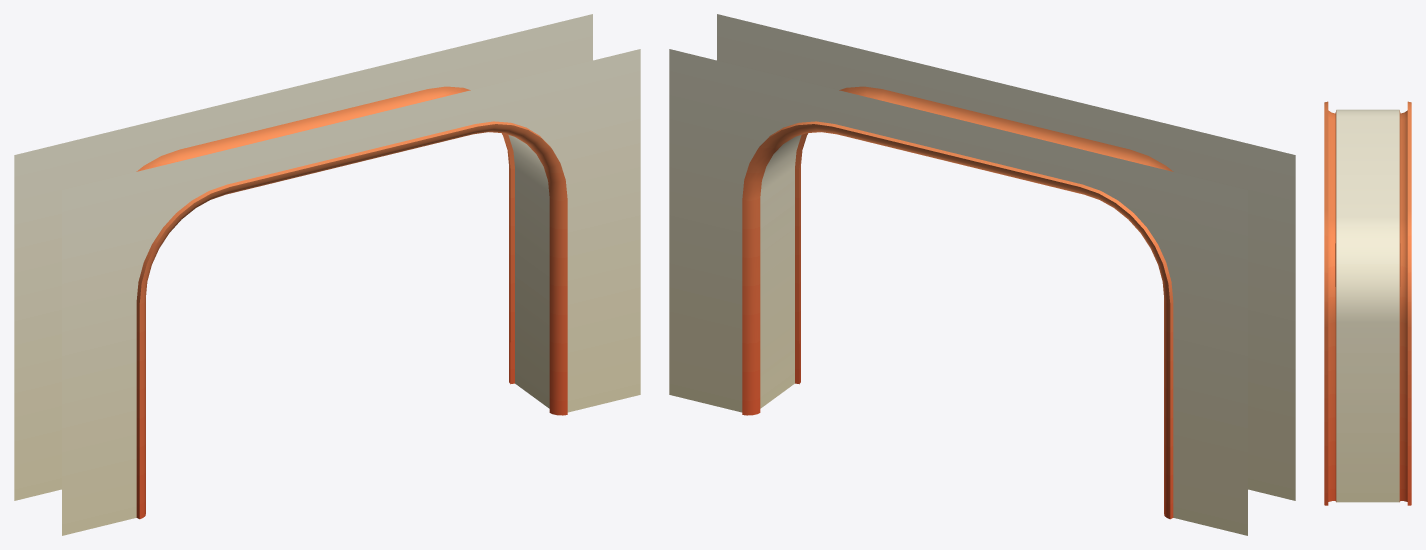
Rendered from sm_futuristic_doorway_5x3.fbx.
3 renders of one model, left to right at view 1: azimuth 30°, elevation 25°; view 2: azimuth 150°, elevation 25°; view 3: azimuth 270°, elevation 25°, orthographic. The views are drawn at different scales.
Parts seen in each view (by area): view 1: sm_futuristic_doorway_5x3; view 2: sm_futuristic_doorway_5x3; view 3: sm_futuristic_doorway_5x3.
Part boxes in pixels (x1,y1,x2,y2): sm_futuristic_doorway_5x3: [14, 14, 640, 535]; sm_futuristic_doorway_5x3: [669, 14, 1295, 535]; sm_futuristic_doorway_5x3: [1324, 101, 1411, 505].
Size of the model in its own units: 700 by 110 by 400.
